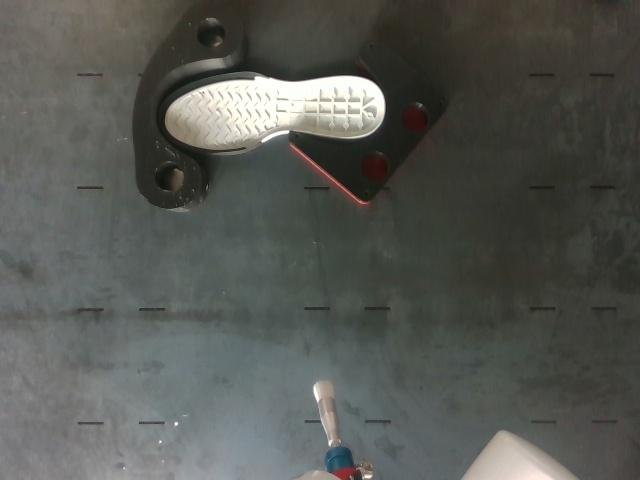shoes: (159, 71, 384, 152)
